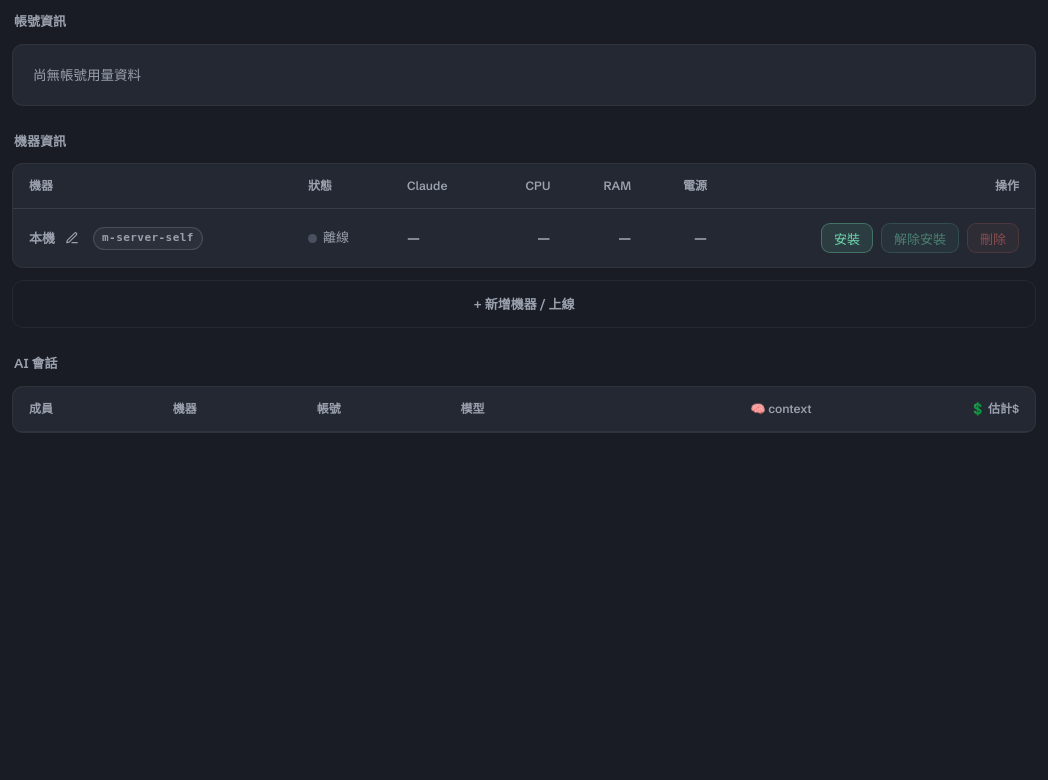
Scenario: MonitorPage bootstrap-on-server log retention › still shows the log — and the failure wording — on a FAILED install
Click the button with test id "mon-install-btn" at (847, 238), box x1=821 y1=223 x2=873 y2=253
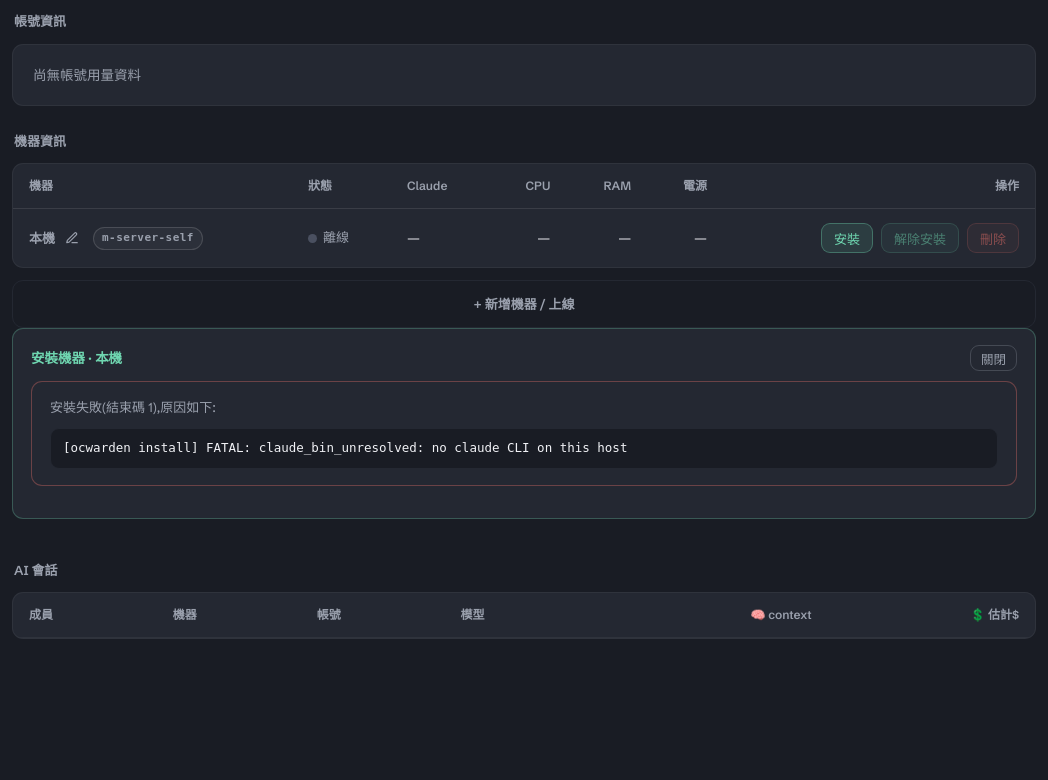
Now the text with test id "mon-bootstrap-log" shows "claude_bin_unresolved", box x1=63 y1=440 x2=627 y2=455
Now the element with test id "mon-bootstrap-result-block" shows "安裝失敗", box x1=50 y1=399 x2=216 y2=415
